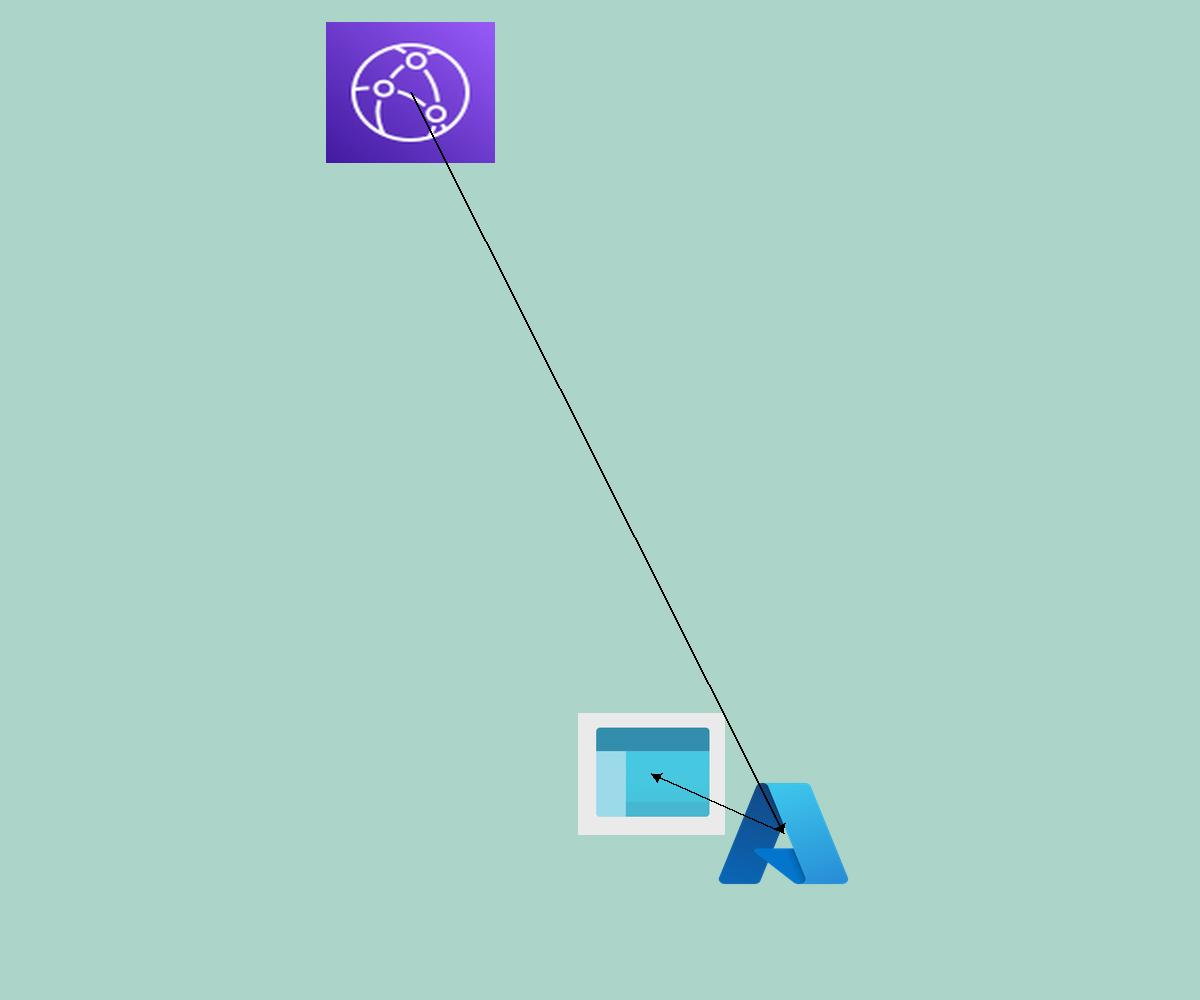AWS-CloudFront: (326, 22, 495, 163)
Azure_management-portal: (578, 713, 725, 835)
Azure_services: (713, 775, 854, 892)
